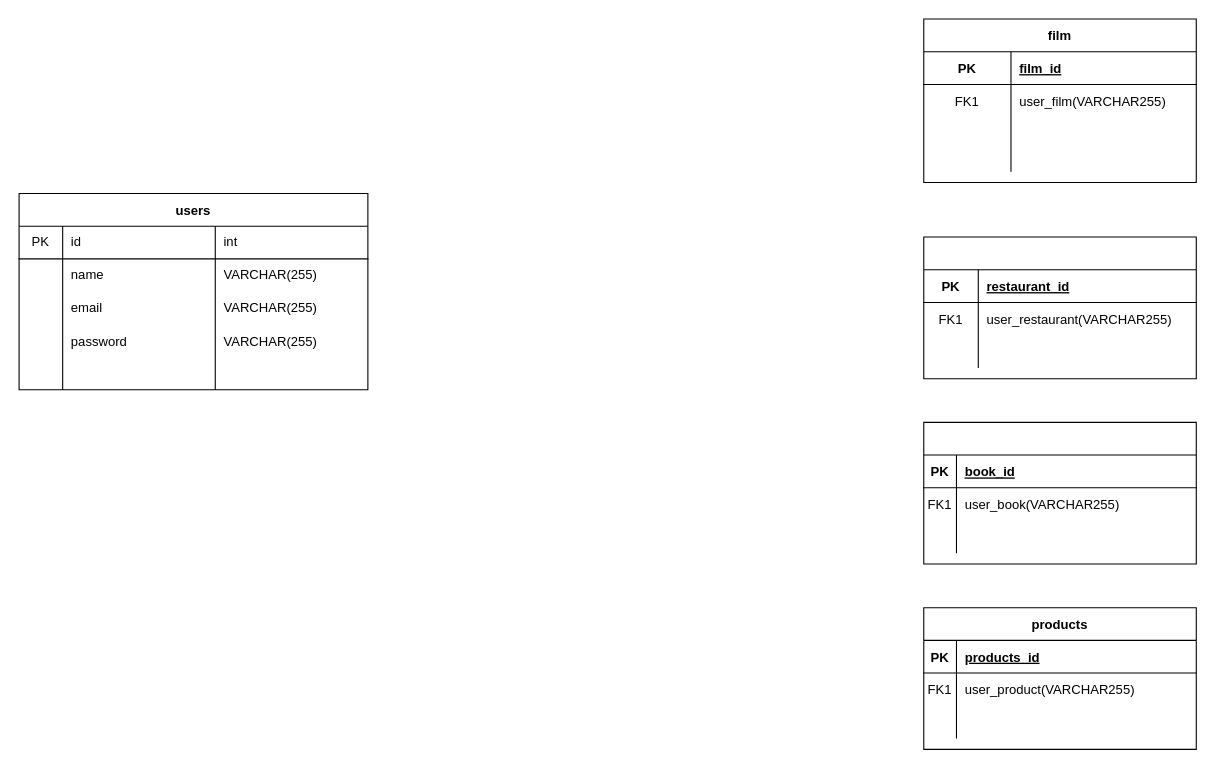
This 1215x768 diagram has some shape labels left out. Each missing label, with the box of its shape:
books: (923, 421, 1196, 564)
restaurants: (923, 236, 1196, 379)
